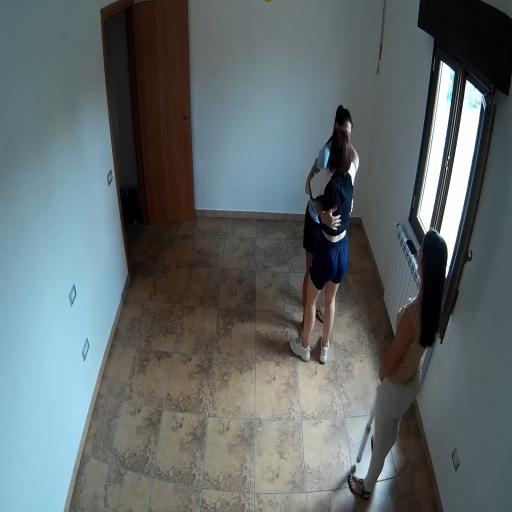nao-violencia: (276, 83, 365, 369)
